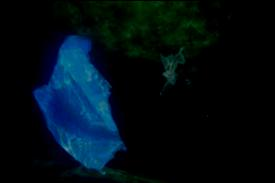Plastic: (29, 28, 131, 175)
